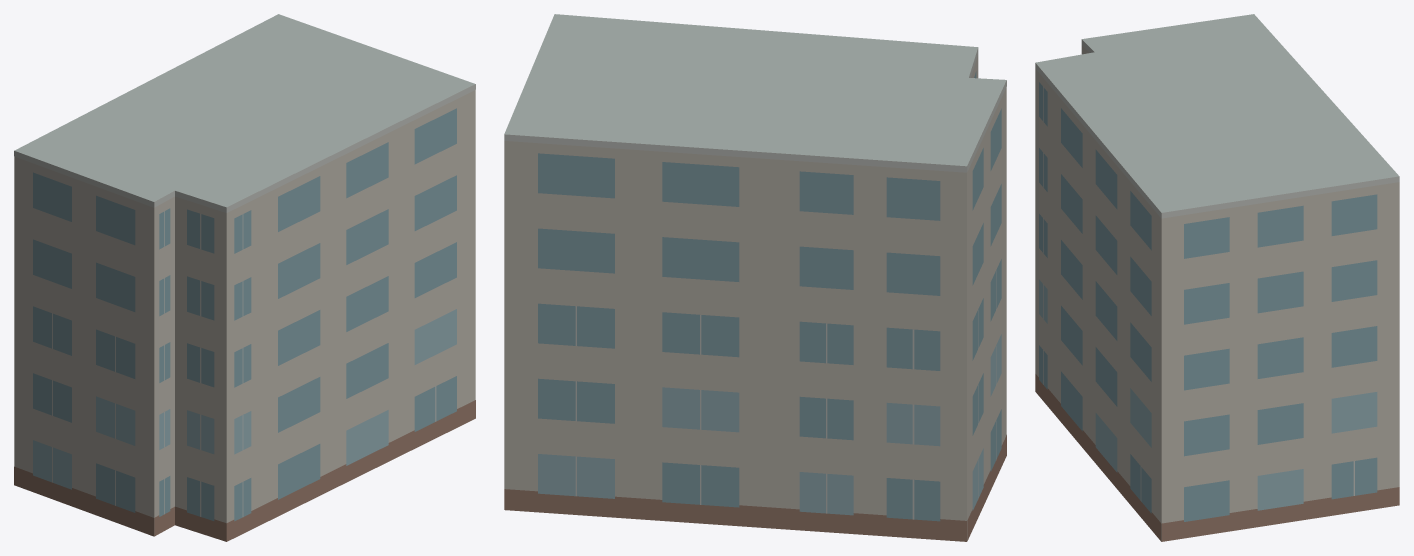
The model's file is survey-upis-32865614.glb.
3 views of the same model, side by side, from view 1: azimuth 30°, elevation 25°; view 2: azimuth 150°, elevation 25°; view 3: azimuth 270°, elevation 25° (orthographic). The views are drawn at different scales.
Parts seen in each view (by area): view 1: survey-upis-32865614.tmp; view 2: survey-upis-32865614.tmp; view 3: survey-upis-32865614.tmp.
Part boxes in pixels (bbox=[...]): survey-upis-32865614.tmp: bbox=[14, 14, 475, 541]; survey-upis-32865614.tmp: bbox=[504, 14, 1006, 541]; survey-upis-32865614.tmp: bbox=[1035, 14, 1399, 541].
Size of the model in its own units: 18.36 by 14.15 by 14.21.
